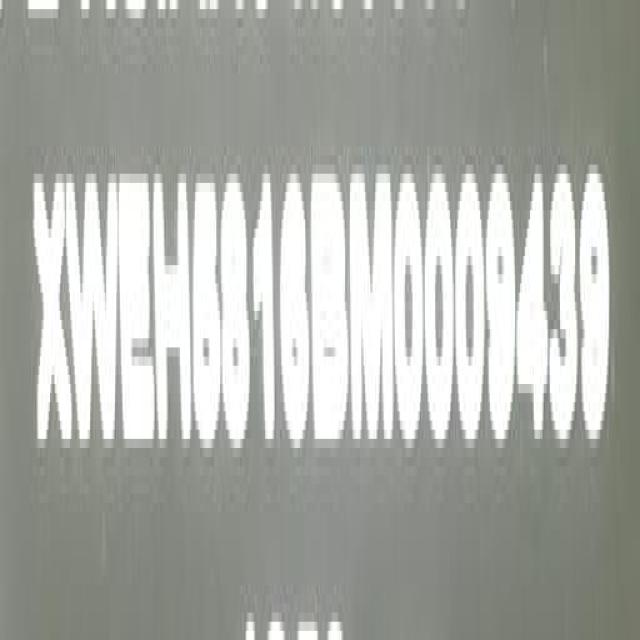0: (424, 160, 456, 453), (455, 163, 486, 449), (394, 152, 424, 435)
1: (250, 156, 278, 453)
3: (548, 149, 580, 464)
4: (515, 149, 549, 457)
5: (193, 142, 219, 476)
6: (280, 167, 309, 458)
8: (220, 167, 254, 444)
9: (578, 166, 612, 464), (485, 178, 515, 458)
B: (310, 178, 350, 444)
E: (120, 148, 154, 472)
H: (151, 144, 193, 462)
M: (349, 145, 394, 472)
W: (68, 160, 120, 458)
X: (32, 152, 72, 449)
